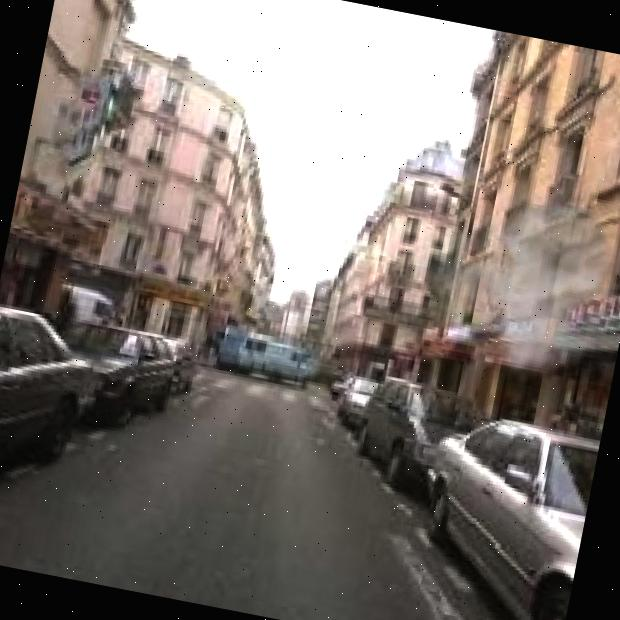smoke: (397, 159, 620, 402)
